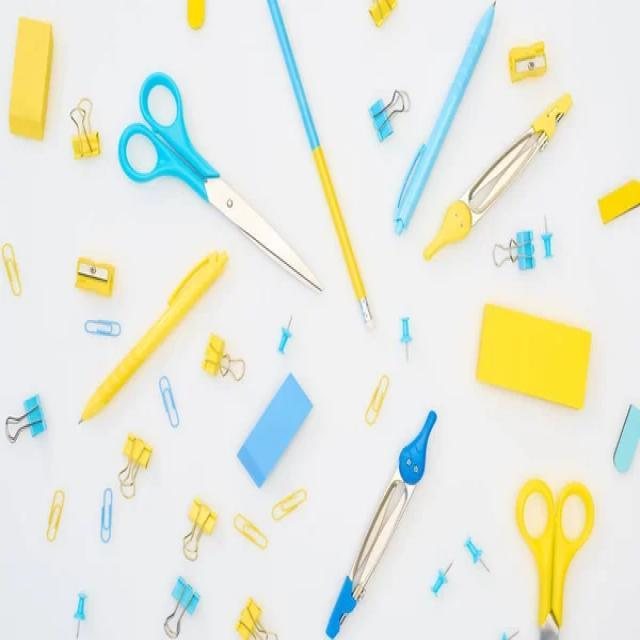tesoura: (116, 64, 327, 311)
